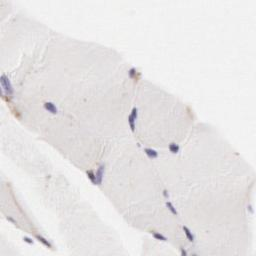nucleus: (33, 232, 54, 251), (1, 74, 14, 92), (143, 147, 158, 158), (45, 103, 57, 115), (97, 165, 105, 183), (184, 225, 192, 242), (128, 113, 135, 132), (87, 171, 97, 184), (167, 202, 176, 214), (153, 233, 166, 241), (170, 144, 180, 152), (249, 204, 255, 215), (163, 189, 169, 199), (7, 215, 14, 223), (128, 68, 135, 75), (25, 238, 33, 244), (133, 107, 137, 117)
positive_cell: (128, 66, 142, 83)
